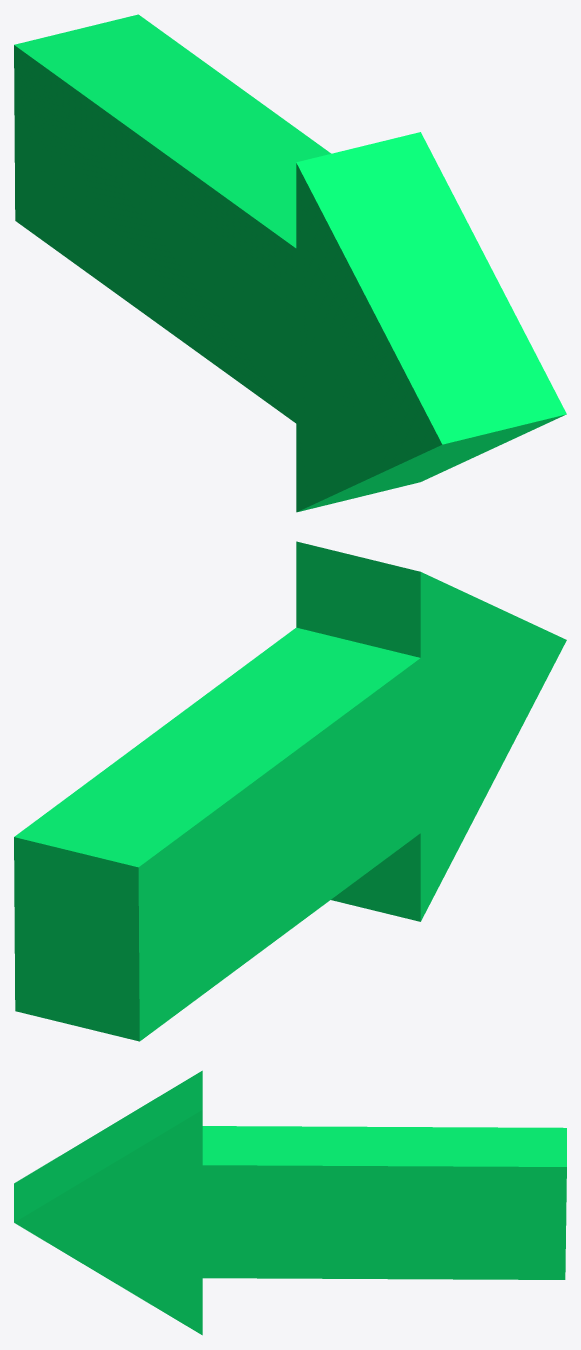
File: arrow.obj
3 renders of one model, top to bottom at view 1: azimuth 30°, elevation 25°; view 2: azimuth 150°, elevation 25°; view 3: azimuth 270°, elevation 25°, orthographic. The views are drawn at different scales.
Visible parts, largest first — view 1: Arrow; view 2: Arrow; view 3: Arrow.
Part boxes in pixels (x1=…): Arrow: x1=14, y1=14, x2=566, y2=512; Arrow: x1=14, y1=541, x2=566, y2=1041; Arrow: x1=14, y1=1070, x2=566, y2=1335.
Bounding box in the file's own units: 1.23 × 3.3 × 7.33.
